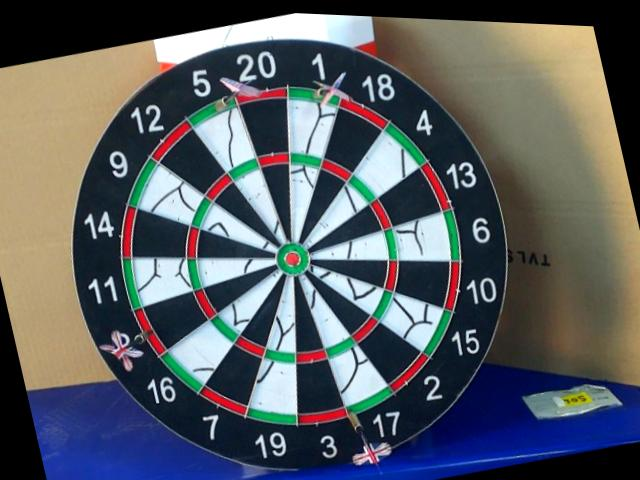double_1: (288, 87, 340, 105)
double_17: (347, 388, 391, 411)
double_5: (191, 96, 232, 124)
double_8: (136, 311, 165, 353)
